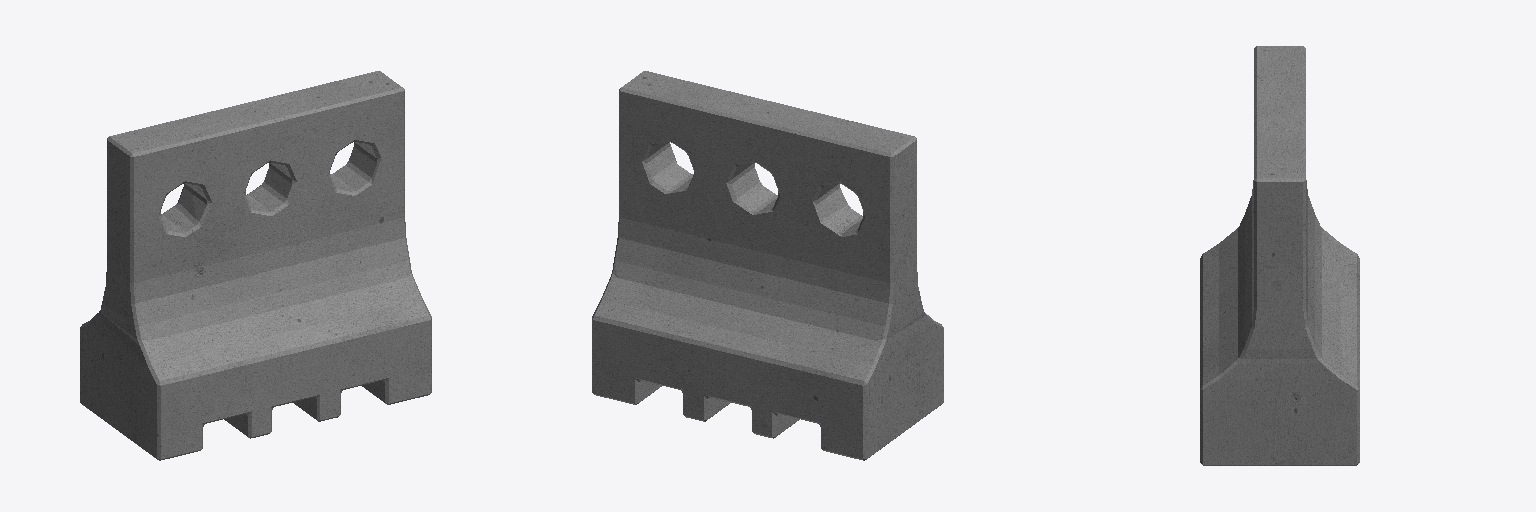
3 views of the same model, side by side, from view 1: azimuth 30°, elevation 25°; view 2: azimuth 150°, elevation 25°; view 3: azimuth 270°, elevation 25° (orthographic).
Visible parts, largest first — view 1: Road Block.004; view 2: Road Block.004; view 3: Road Block.004.
Boxes of the visible parts, box(x1,y1,x2,y2) form: Road Block.004: box(80, 71, 431, 460); Road Block.004: box(592, 71, 943, 460); Road Block.004: box(1200, 46, 1359, 465).
Bounding box in the file's own units: 0.96 × 0.96 × 0.4805.
1 materials, 1 textured.